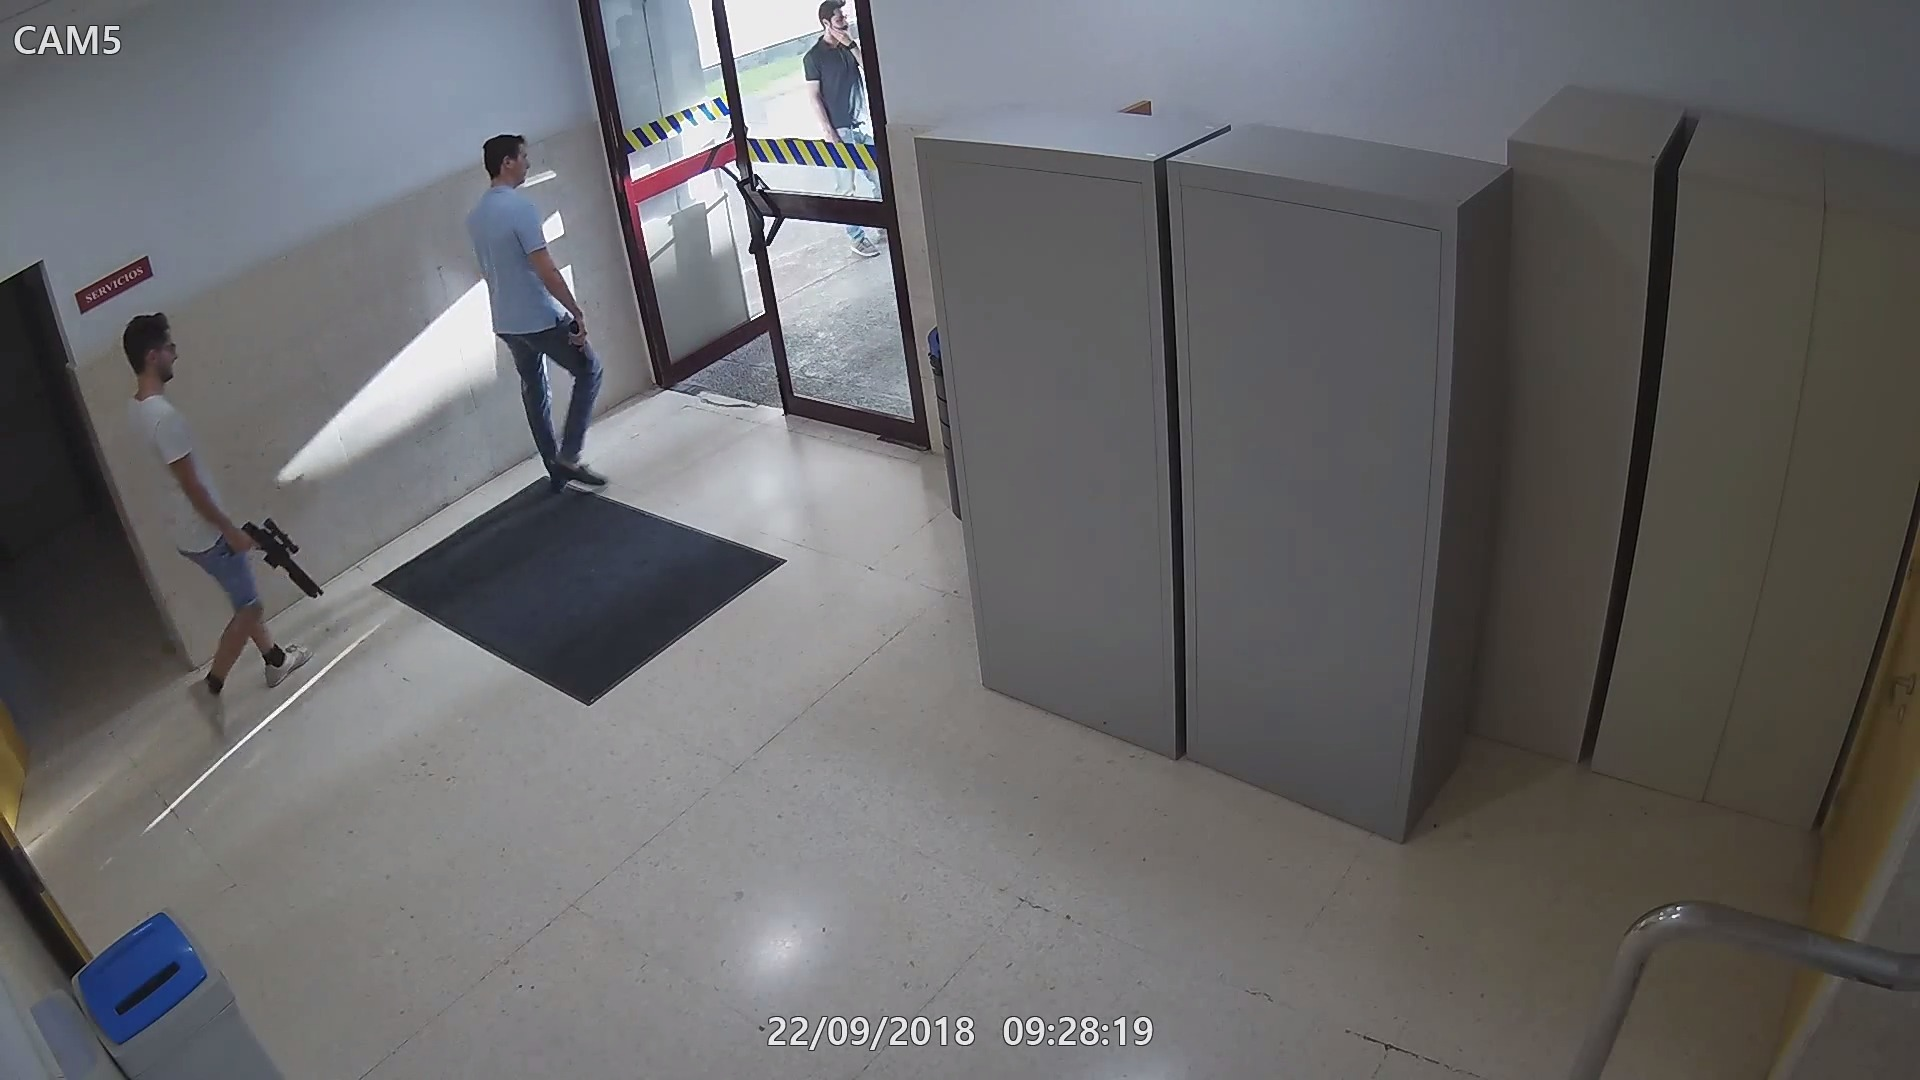Short_rifle: (218, 518, 330, 604)
